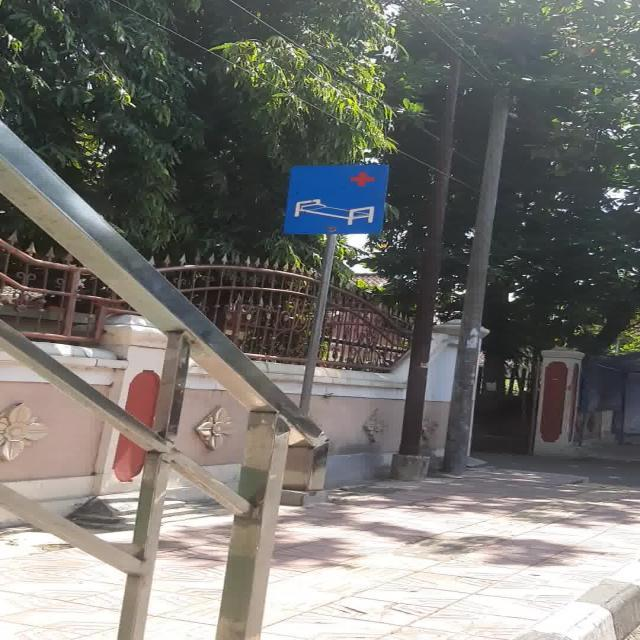Rumah Sakit: (284, 165, 388, 234)
